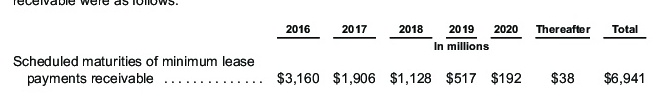table: (0, 0, 662, 103)
